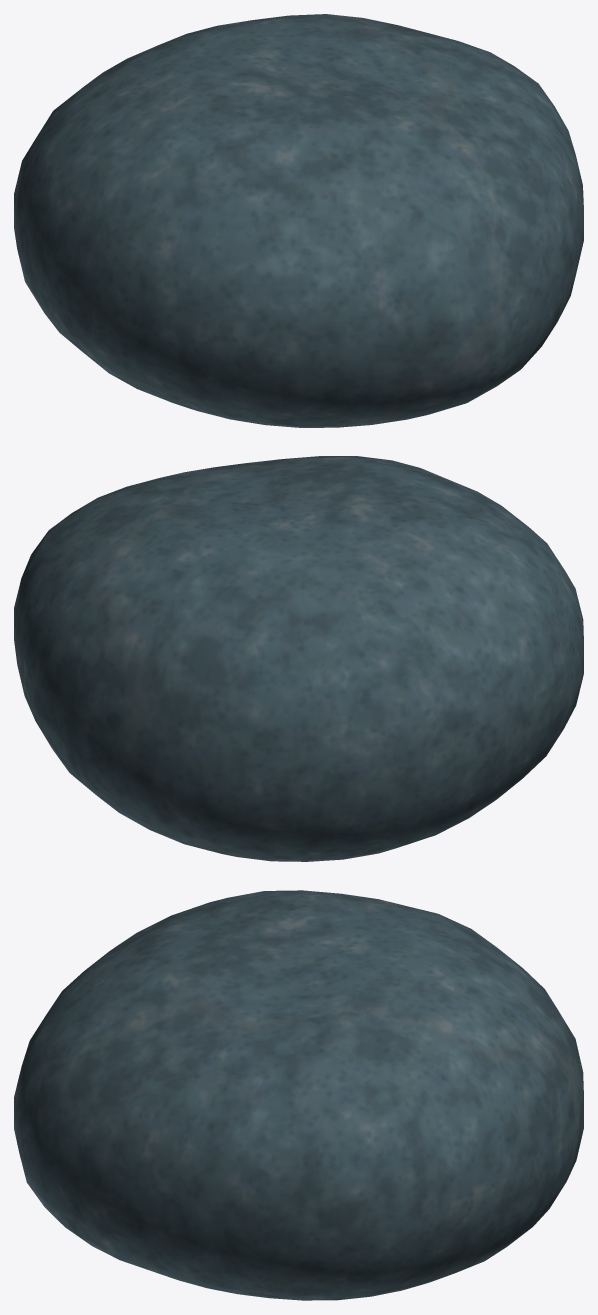
The model's file is chunky_cobble_05.glb.
3 renders of one model, top to bottom at view 1: azimuth 30°, elevation 25°; view 2: azimuth 150°, elevation 25°; view 3: azimuth 270°, elevation 25°, orthographic.
Visible parts, largest first — view 1: chunky_cobble_05; view 2: chunky_cobble_05; view 3: chunky_cobble_05.
Boxes of the visible parts, x1,y1,x2,y2 form: chunky_cobble_05: (14,14,583,427); chunky_cobble_05: (14,456,583,861); chunky_cobble_05: (14,890,583,1300).
Size of the model in its own units: 0.0555 by 0.0324 by 0.0552.
1 material, 1 textured.
